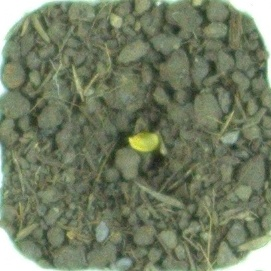pepper seed: (42, 45, 206, 200)
